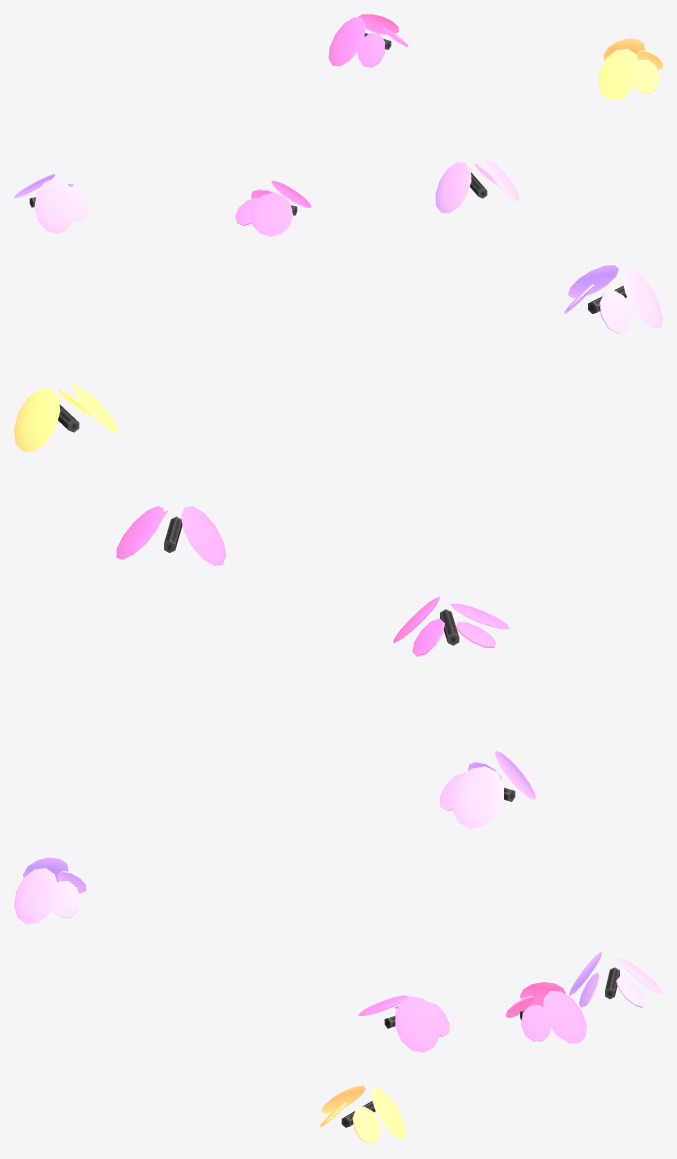
Rendered from tf_butterflies.glb.
3 renders of one model, top to bottom at view 1: azimuth 30°, elevation 25°; view 2: azimuth 150°, elevation 25°; view 3: azimuth 270°, elevation 25°, orthographic. The views are drawn at different scales.
Visible parts, largest first — view 1: tf_butterflies; view 2: tf_butterflies; view 3: tf_butterflies.
Boxes of the visible parts, x1,y1,x2,y2 form: tf_butterflies: (14, 14, 662, 236); tf_butterflies: (14, 265, 662, 828); tf_butterflies: (14, 857, 662, 1144).
Size of the model in its own units: 2.79 by 1.07 by 2.79.
4 materials, 4 textured.
